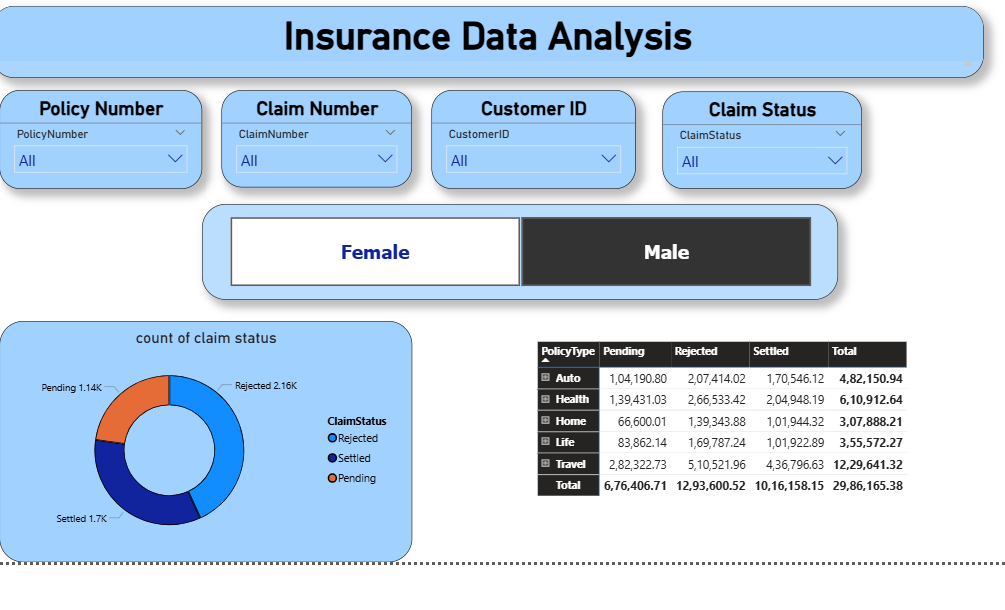

What the dashboard file says about the page in this screenshot:
{"tool":"powerbi","page":{"name":"Page 3","canvas":[1280,720],"ordinal":0},"visuals":[{"type":"textbox","title":"Insurance Data Analysis","box":[0,18.9,1249.1,90.7],"z":0},{"type":"slicer","title":"Policy Number","fields":{"Values":["InsuranceData.PolicyNumber"]},"box":[9.4,124.7,255.1,124.7],"z":1000},{"type":"slicer","title":"Claim Number","fields":{"Values":["InsuranceData.ClaimNumber"]},"box":[289.1,124.7,240,122.8],"z":2000},{"type":"slicer","title":"Claim Status","fields":{"Values":["InsuranceData.ClaimStatus"]},"box":[844.7,126.6,251.3,122.8],"z":3000},{"type":"slicer","title":"Customer ID","fields":{"Values":["InsuranceData.CustomerID"]},"box":[553.7,124.7,257,124.7],"z":4000},{"type":"slicer","fields":{"Values":["InsuranceData.Gender"]},"box":[264.6,268.3,801.3,120.9],"z":5000},{"type":"donutChart","title":"count of claim status","fields":{"Category":["InsuranceData.ClaimStatus"],"Y":["CountNonNull(InsuranceData.ClaimStatus)"]},"box":[9.4,415.8,519.7,304.3],"z":6000},{"type":"pivotTable","fields":{"Rows":["InsuranceData.PolicyType","InsuranceData.PolicyNumber"],"Columns":["InsuranceData.ClaimStatus"],"Values":["Sum(InsuranceData.PremiumAmount)"]},"box":[682.2,436.5,521.6,283.5],"z":7000}]}

Visuals, with their boxes on the page's 1280x720 design canvas (x1, y1, x2, y2). These are canvas units, not pixel positions in the 1005x610 screenshot, which may show the page scaled, cropped or inside an application window:
"Insurance Data Analysis" textbox: bbox(0, 19, 1249, 110)
"Policy Number" slicer: bbox(9, 125, 264, 249)
"Claim Number" slicer: bbox(289, 125, 529, 248)
"Claim Status" slicer: bbox(845, 127, 1096, 249)
"Customer ID" slicer: bbox(554, 125, 811, 249)
slicer - InsuranceData.Gender: bbox(265, 268, 1066, 389)
"count of claim status" donutChart: bbox(9, 416, 529, 720)
pivotTable - InsuranceData.PolicyType x InsuranceData.PolicyNumber: bbox(682, 436, 1204, 720)
